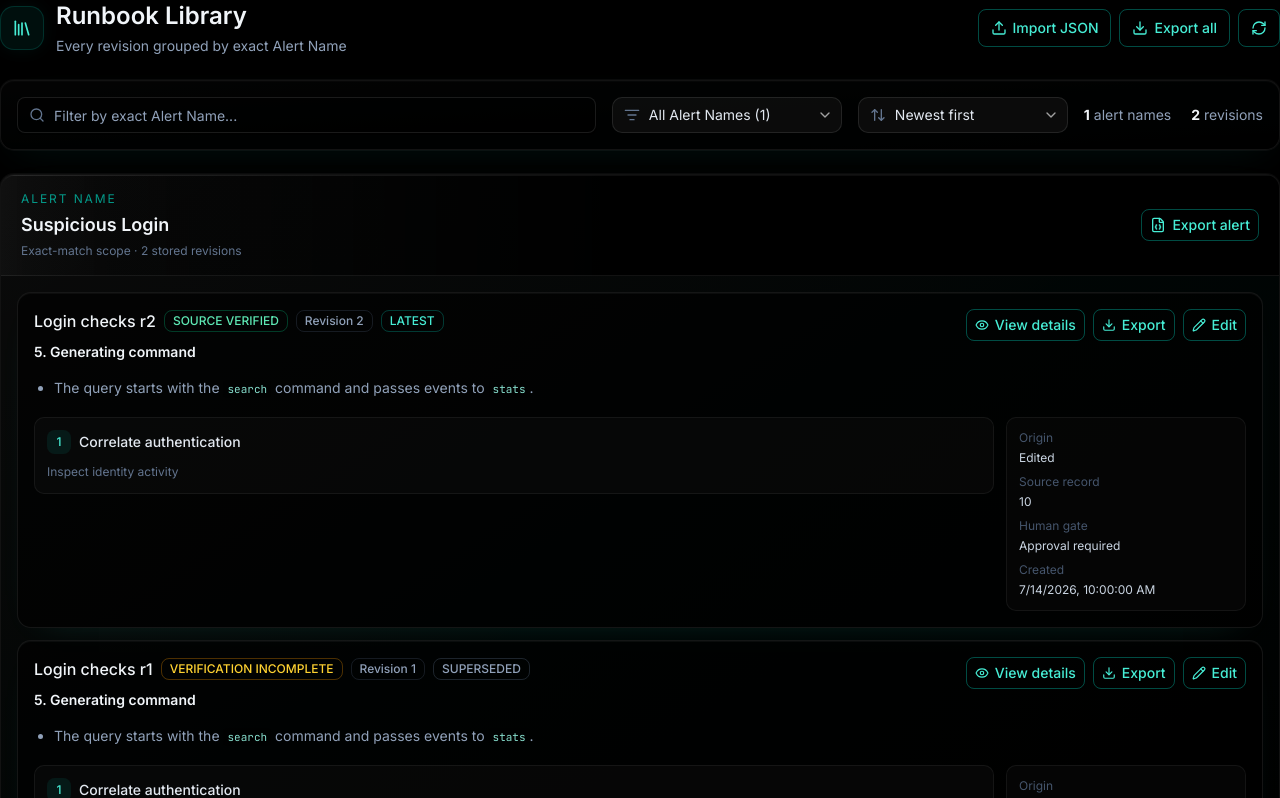
Scenario: RunbookLibraryContent › shows an incomplete historical verification as a warning instead of a failure
Expected: the text "Login checks r1" is shown, 34,659 -> 153,679
Expected: the text "SUPERSEDED" is shown, 433,658 -> 530,680
Click the button "View details" in the row of "SUPERSEDED" at [1025, 673], box 966,657 -> 1085,689
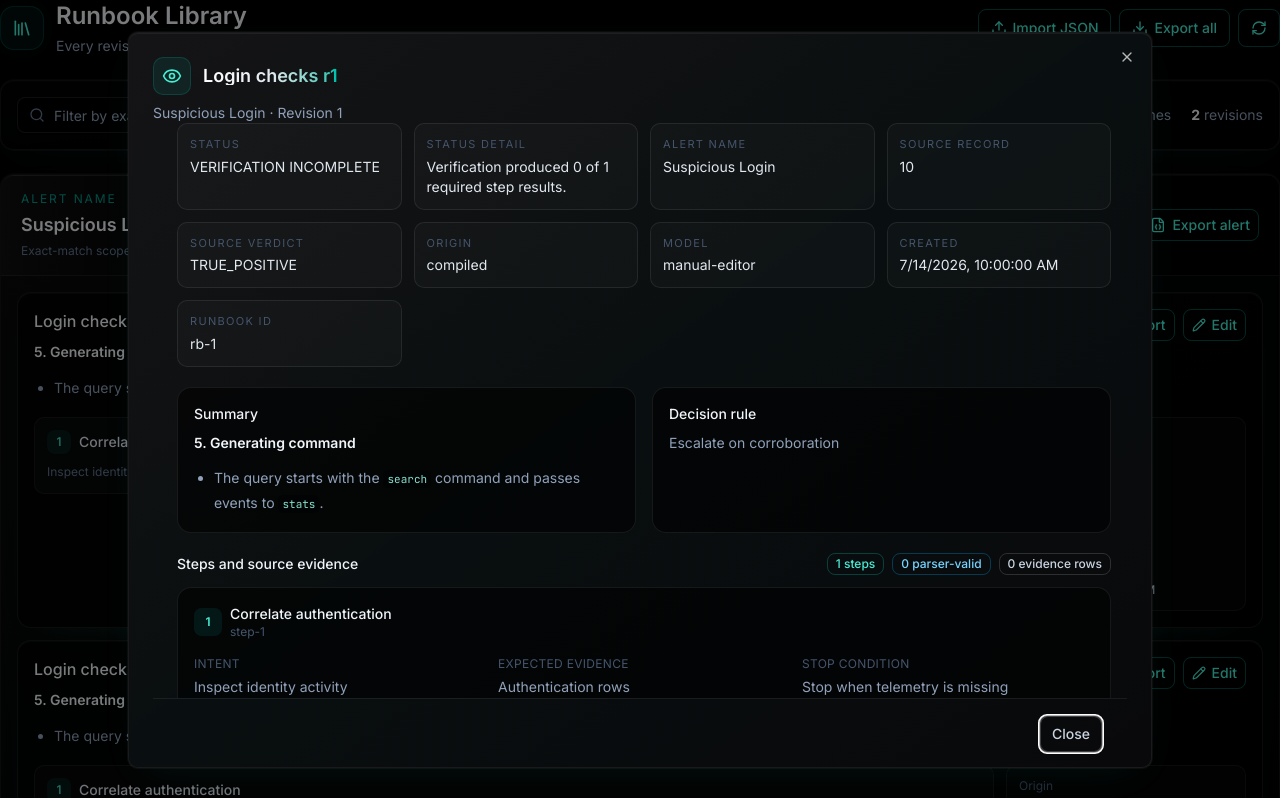
Expected: the text "Verification produced 0 of 1 required step results." is shown, 426,156 -> 625,196
